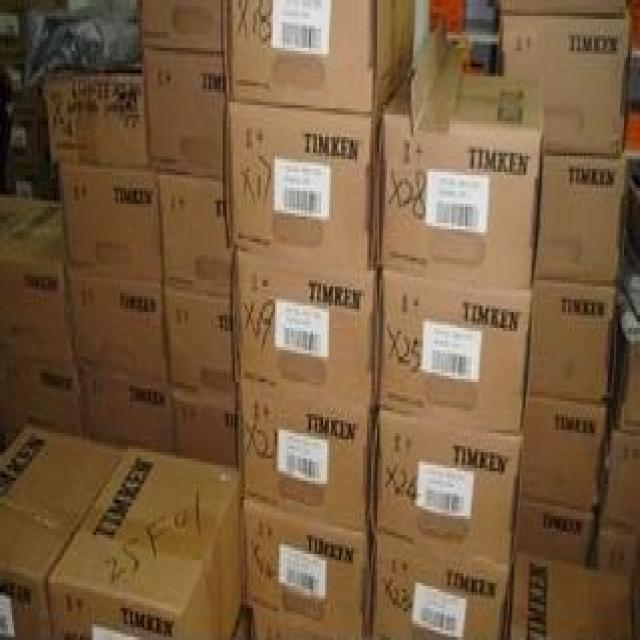box: (377, 64, 546, 290), (48, 446, 243, 640), (0, 423, 126, 640), (223, 96, 379, 271), (375, 267, 532, 436), (369, 408, 524, 564), (221, 0, 413, 124), (231, 248, 379, 408), (235, 379, 375, 532), (496, 10, 632, 156), (241, 497, 373, 640), (369, 535, 514, 640), (58, 159, 165, 280), (534, 150, 630, 283), (0, 194, 74, 363), (40, 64, 148, 169), (508, 551, 634, 640), (526, 280, 618, 401), (68, 277, 171, 385), (142, 51, 225, 178), (520, 395, 612, 509), (158, 175, 233, 296), (0, 353, 86, 455), (78, 366, 175, 455), (163, 290, 237, 398), (512, 497, 598, 567), (610, 236, 640, 433), (171, 385, 237, 468), (594, 423, 640, 535), (136, 0, 221, 54), (249, 611, 343, 640), (590, 532, 640, 586)
